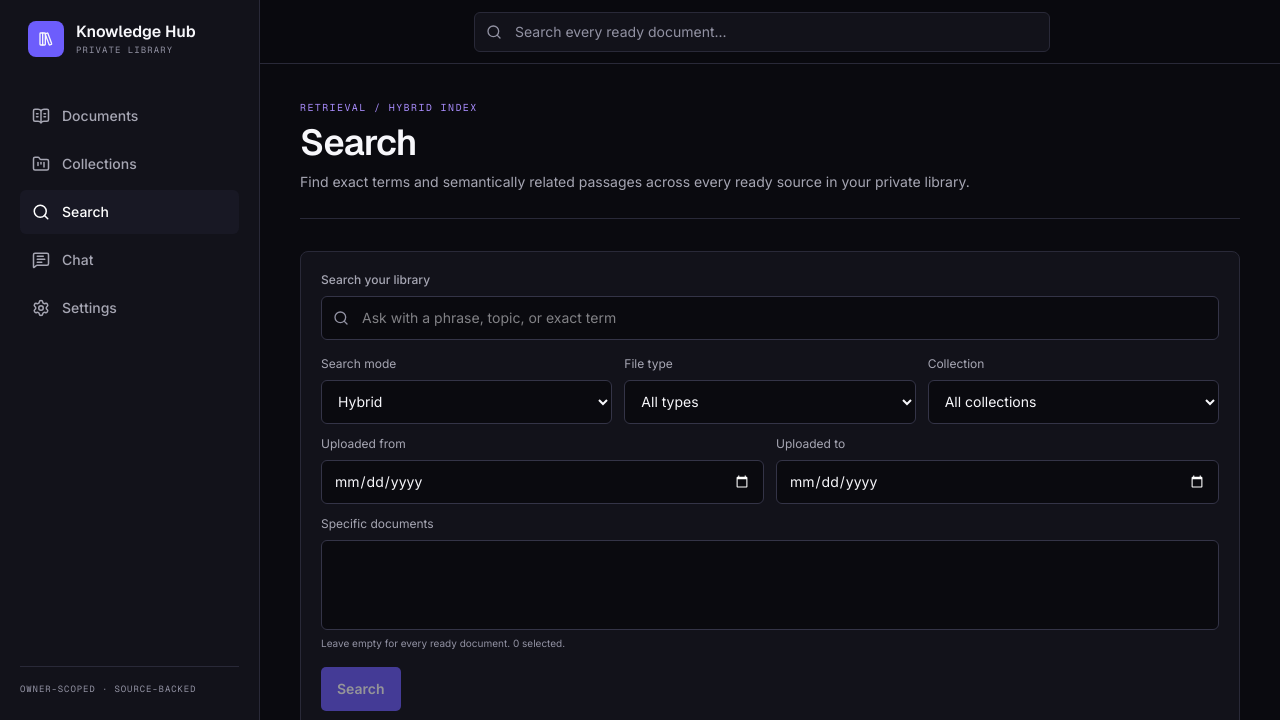
workspace pages › searches with mode and file filters and renders source metadata
The image size is (1280, 720).
Type "grounded answers" into the field labelled "Search your library". click: (770, 318)
box: [321, 296, 1219, 340]
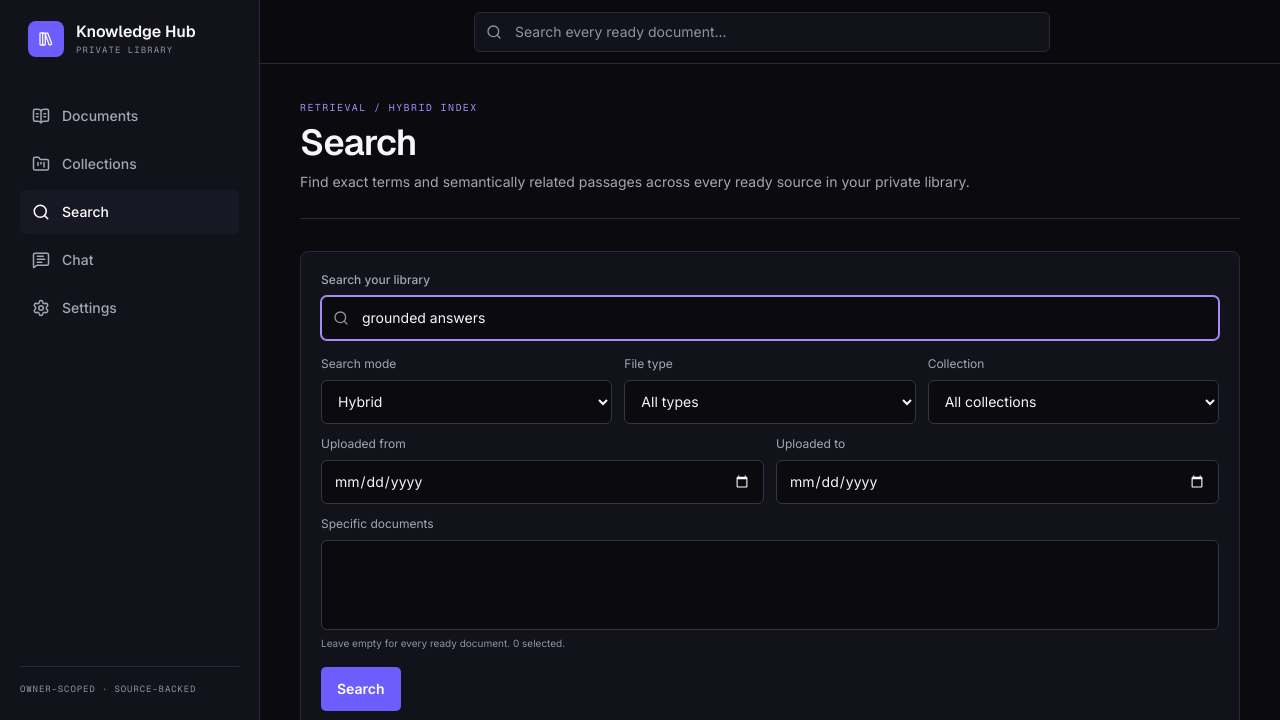
Select "Hybrid" in the dropdown labelled "Search mode". click: (467, 402)
box: [321, 380, 612, 424]
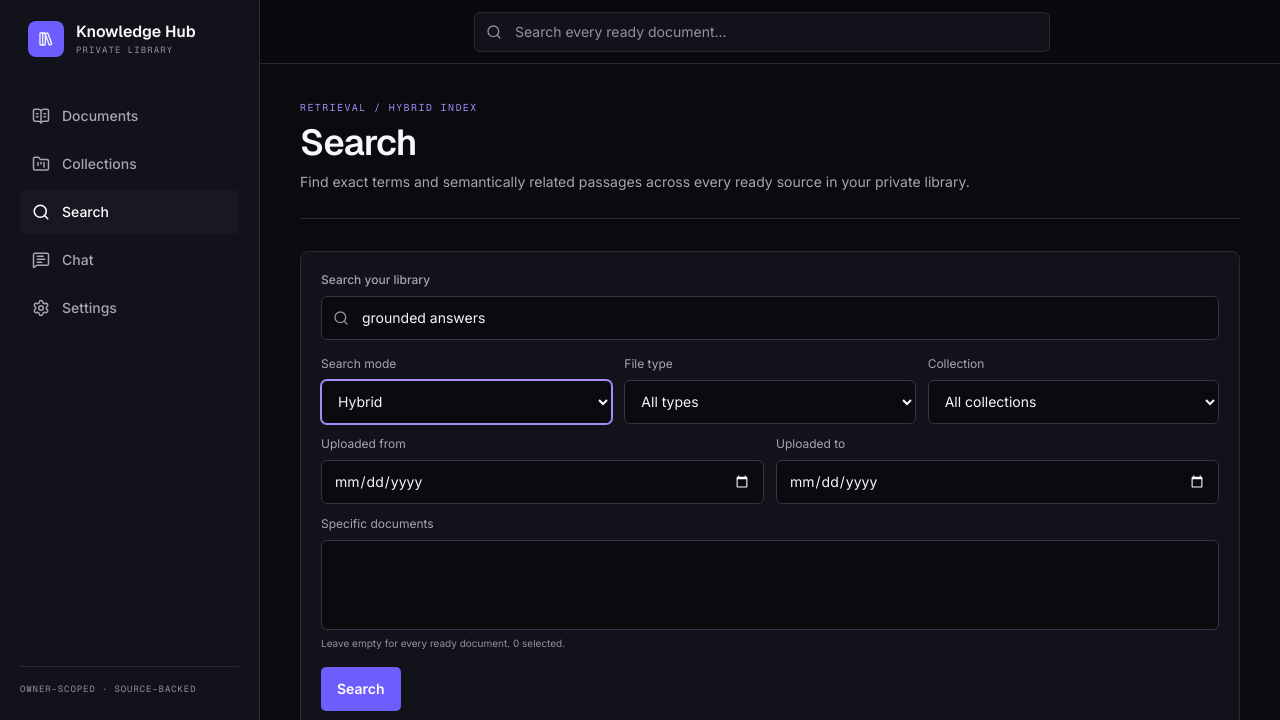
Select "Markdown" in the dropdown labelled "File type". click: (770, 402)
box: [624, 380, 916, 424]
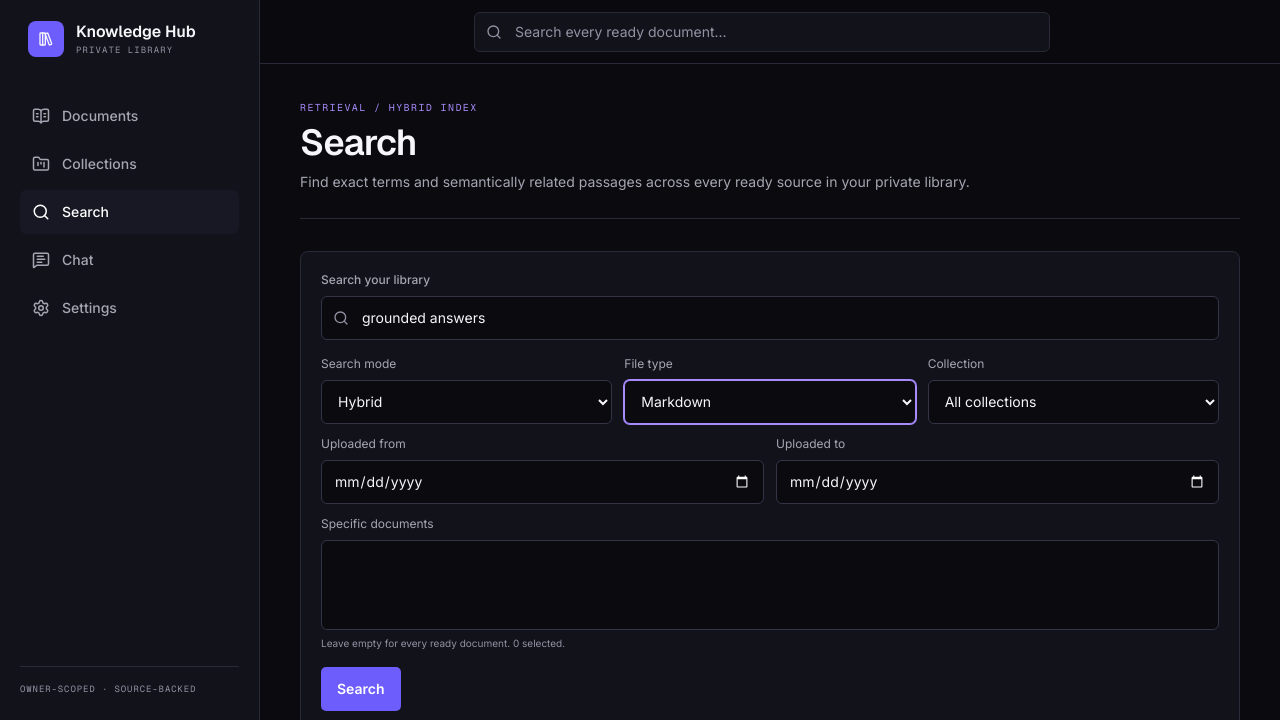
Click the button "Search". click: (361, 689)
box: [321, 667, 400, 711]
(page scrolled)
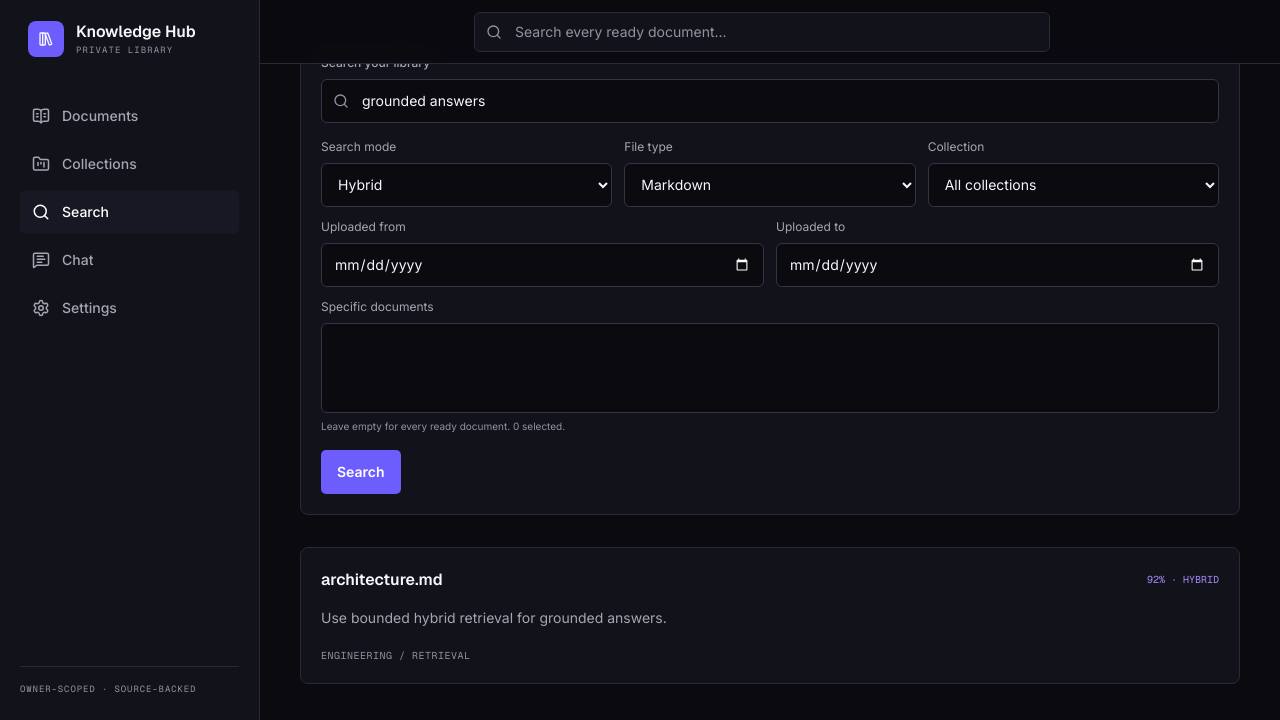
Check: the link "architecture.md" is shown, box [321, 568, 443, 592]
Check: the text "Use bounded hybrid retrieval for grounded answers." is shown, box [321, 609, 667, 626]
